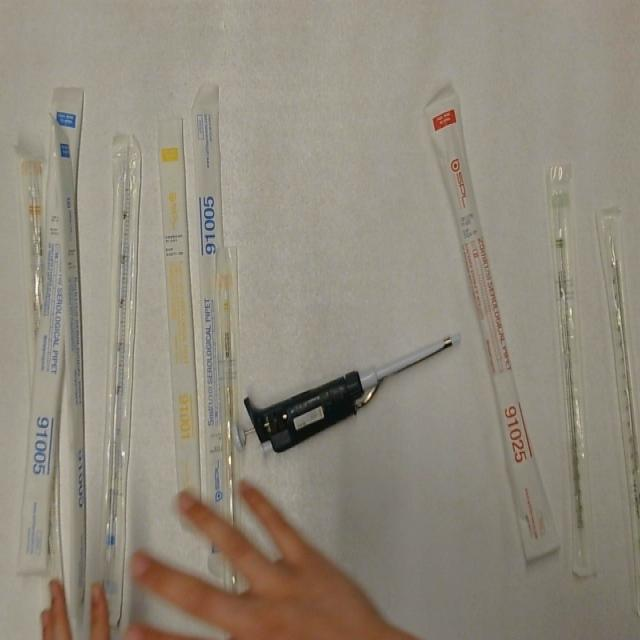Serelogical Pipet 1 mL - Sealed: (154, 112, 206, 537), (214, 242, 247, 594)
Serelogical Pipet 10 mL - Sealed: (18, 144, 50, 367)
Serelogical Pipet 2 mL - Sealed: (546, 155, 602, 592)
Serelogical Pipet 25 mL - Sealed: (424, 88, 560, 566)
Serelogical Pipet 5 mL - Sealed: (15, 74, 88, 580), (96, 130, 146, 631), (50, 110, 94, 626), (194, 85, 238, 555)
Single Channel Pipettor: (228, 328, 466, 457)
